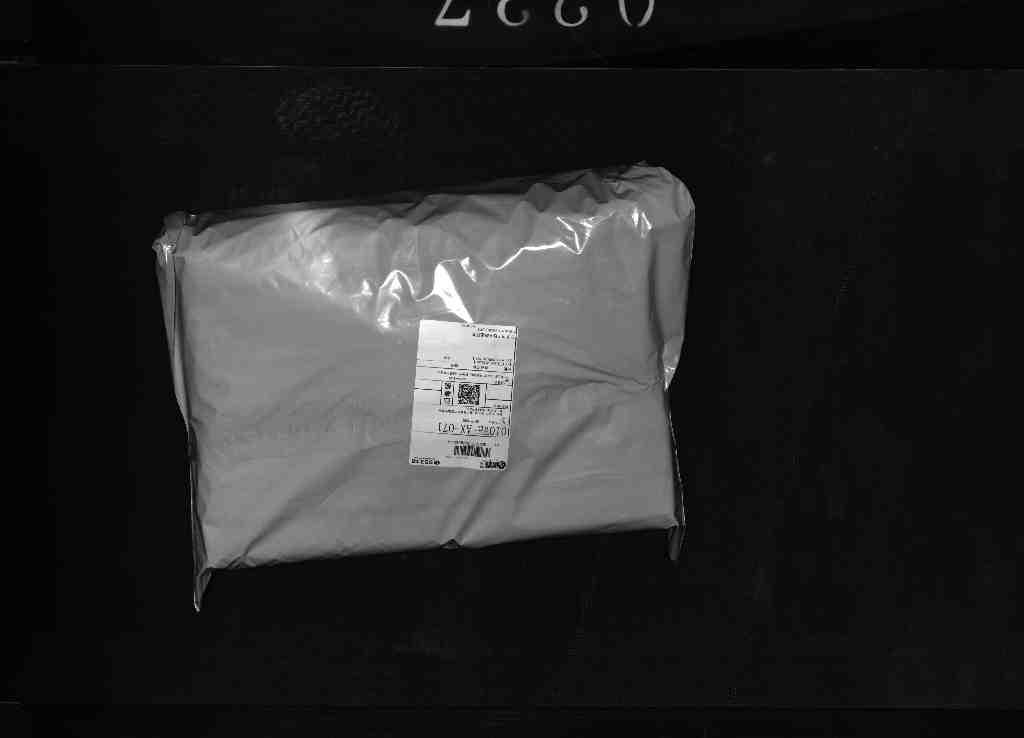box: (153, 167, 699, 600)
